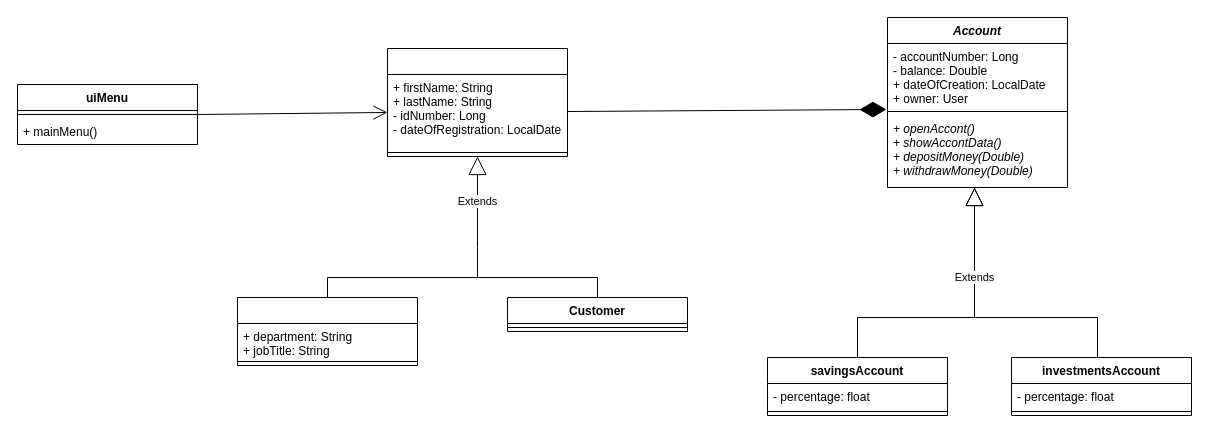
The diagram is 1209 pixels wide and 433 high, and some of its shapes have lost their labels. The box of each missing label's shape, as (x1, y1, x2, y2) in pixels:
Employee: (236, 296, 418, 366)
User: (386, 48, 568, 156)
